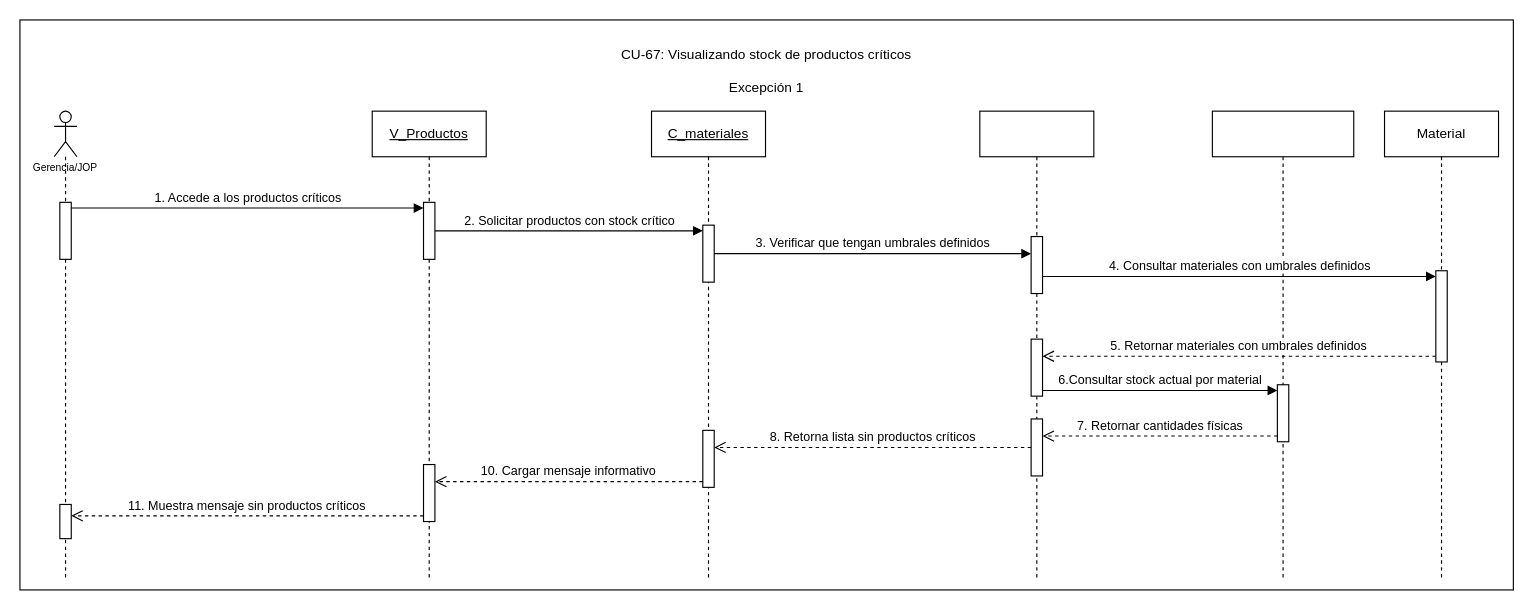
The diagram is 1533 pixels wide and 610 high, and some of its shapes have lost their labels. The shapes that lost their labels are listed below. From the top down, each one's box as (x1, y1, x2, y2) in pixels, then its label:
(979, 110, 1094, 579): C_Postgre
(1211, 110, 1354, 579): Inventario_Bodega
